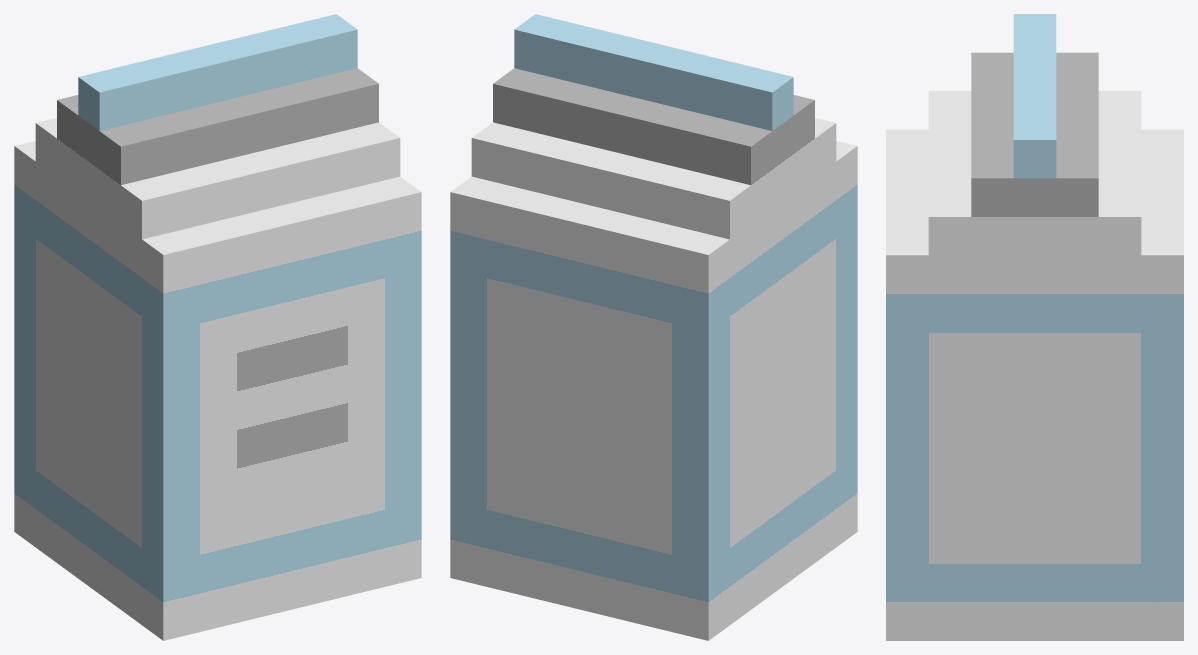
The model's file is mleko.dae.
3 renders of one model, left to right at view 1: azimuth 30°, elevation 25°; view 2: azimuth 150°, elevation 25°; view 3: azimuth 270°, elevation 25°, orthographic.
Visible parts, largest first — view 1: mleko; view 2: mleko; view 3: mleko.
Boxes of the visible parts, left/top/right/bottom form: mleko: left=14, top=14, right=421, bottom=640; mleko: left=450, top=14, right=857, bottom=640; mleko: left=886, top=14, right=1183, bottom=640.
Bounding box in the file's own units: 7 × 13 × 7.
1 material, 1 textured.
